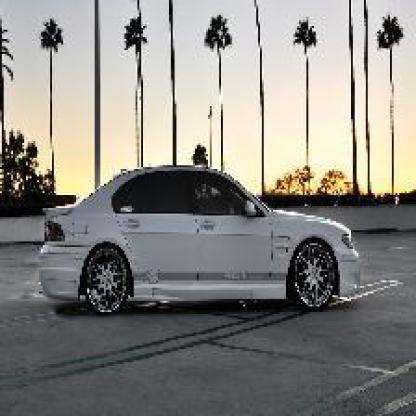not_emergency: (19, 154, 388, 344)
